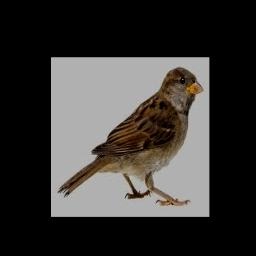Sparrow: (58, 67, 203, 206)
